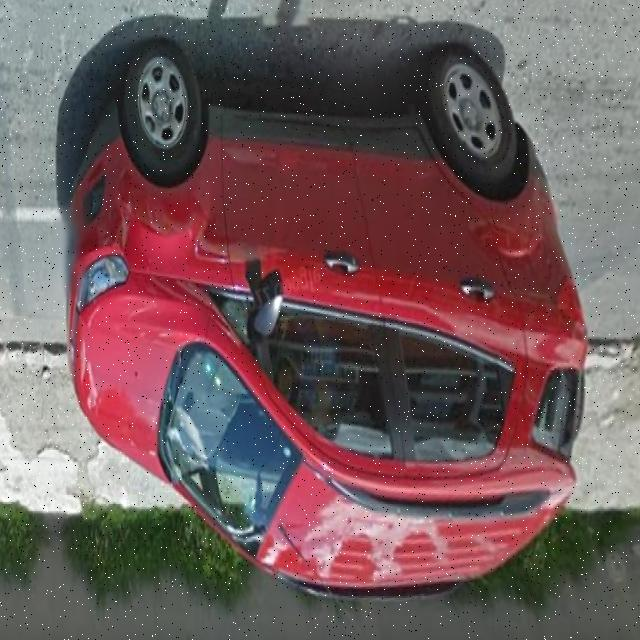car: (62, 33, 592, 601)
